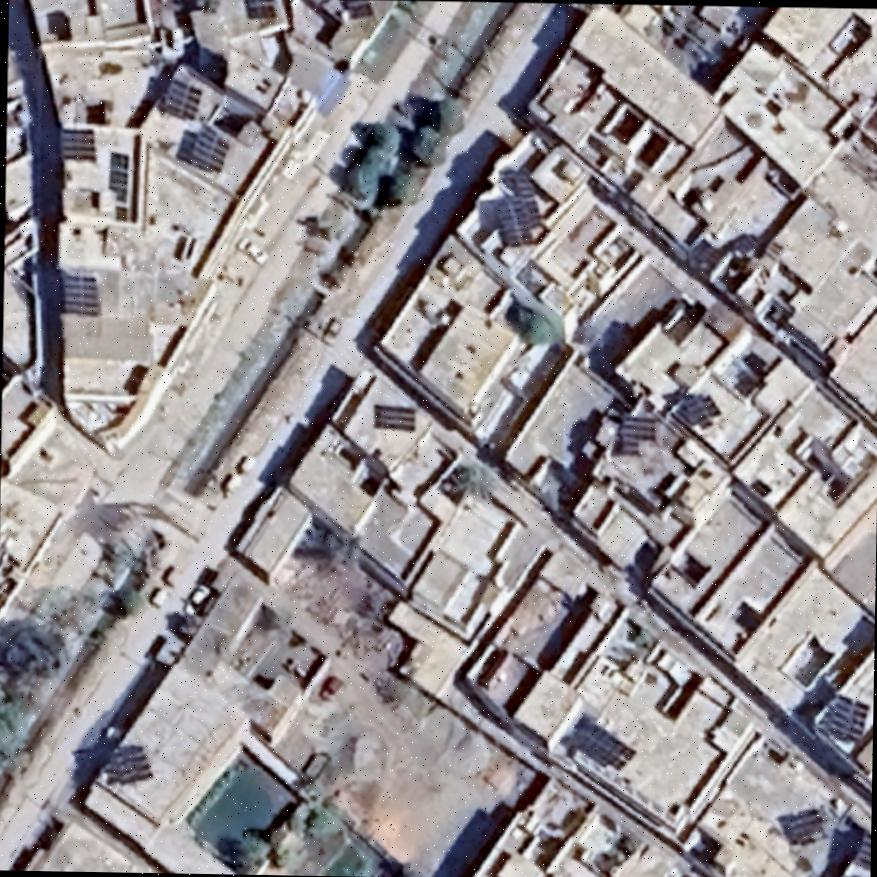Solarpanel: (489, 174, 547, 251), (566, 721, 638, 773), (179, 121, 233, 177), (814, 691, 870, 745), (96, 740, 155, 789), (154, 71, 205, 124), (53, 268, 102, 319), (778, 805, 827, 848), (612, 410, 658, 453), (366, 398, 419, 434), (53, 123, 97, 164), (103, 148, 130, 198), (239, 0, 278, 23), (335, 0, 375, 22)
